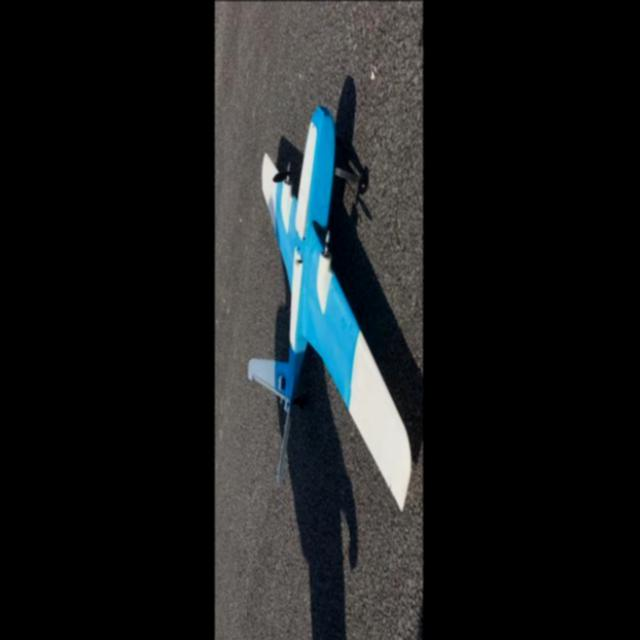plane: (246, 83, 415, 510)
